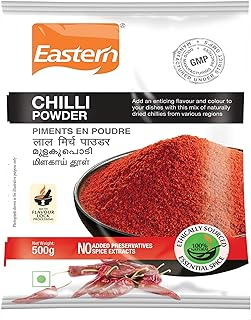Chilli Powder: (1, 2, 251, 315)
